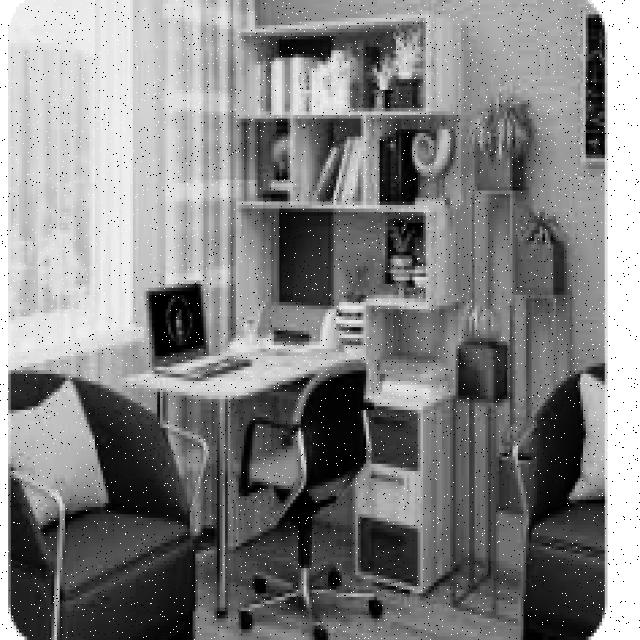book: (225, 356, 382, 640)
table: (120, 341, 363, 615)
